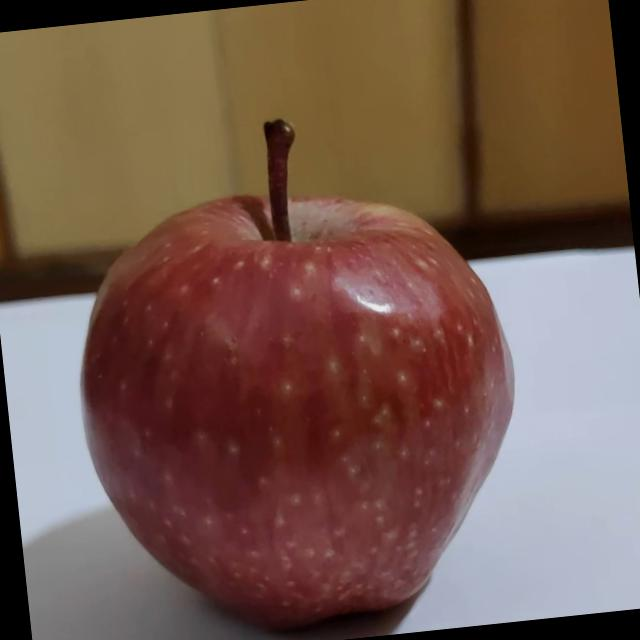apple: (20, 14, 640, 640)
